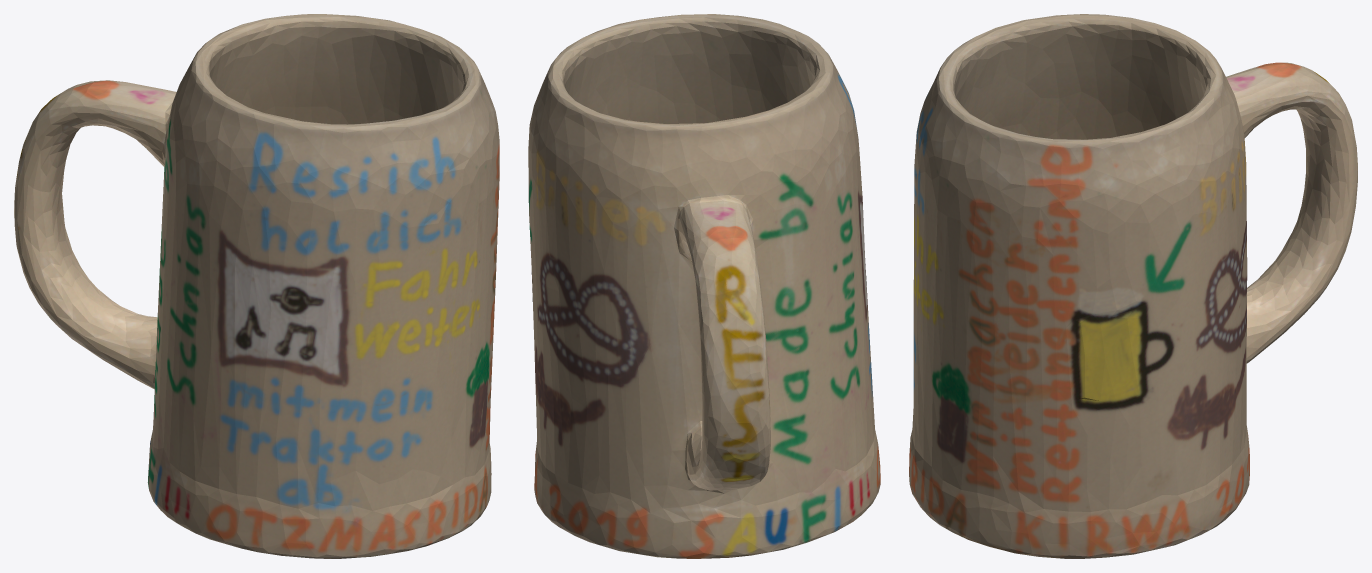
3 views of the same model, side by side, from view 1: azimuth 30°, elevation 25°; view 2: azimuth 150°, elevation 25°; view 3: azimuth 270°, elevation 25° (orthographic).
Parts seen in each view (by area): view 1: Krug Sprueche_4k_2k; view 2: Krug Sprueche_4k_2k; view 3: Krug Sprueche_4k_2k.
Boxes of the visible parts, x1,y1,x2,y2 form: Krug Sprueche_4k_2k: [14, 14, 499, 558]; Krug Sprueche_4k_2k: [528, 14, 880, 558]; Krug Sprueche_4k_2k: [909, 14, 1357, 558].
Bounding box in the file's own units: 0.1123 × 0.135 × 0.1295.
Materials: 1 (1 with a texture image).
